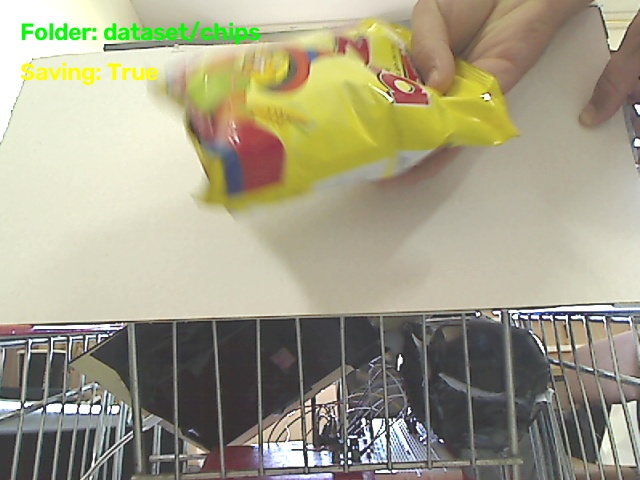chips: (163, 20, 517, 209)
